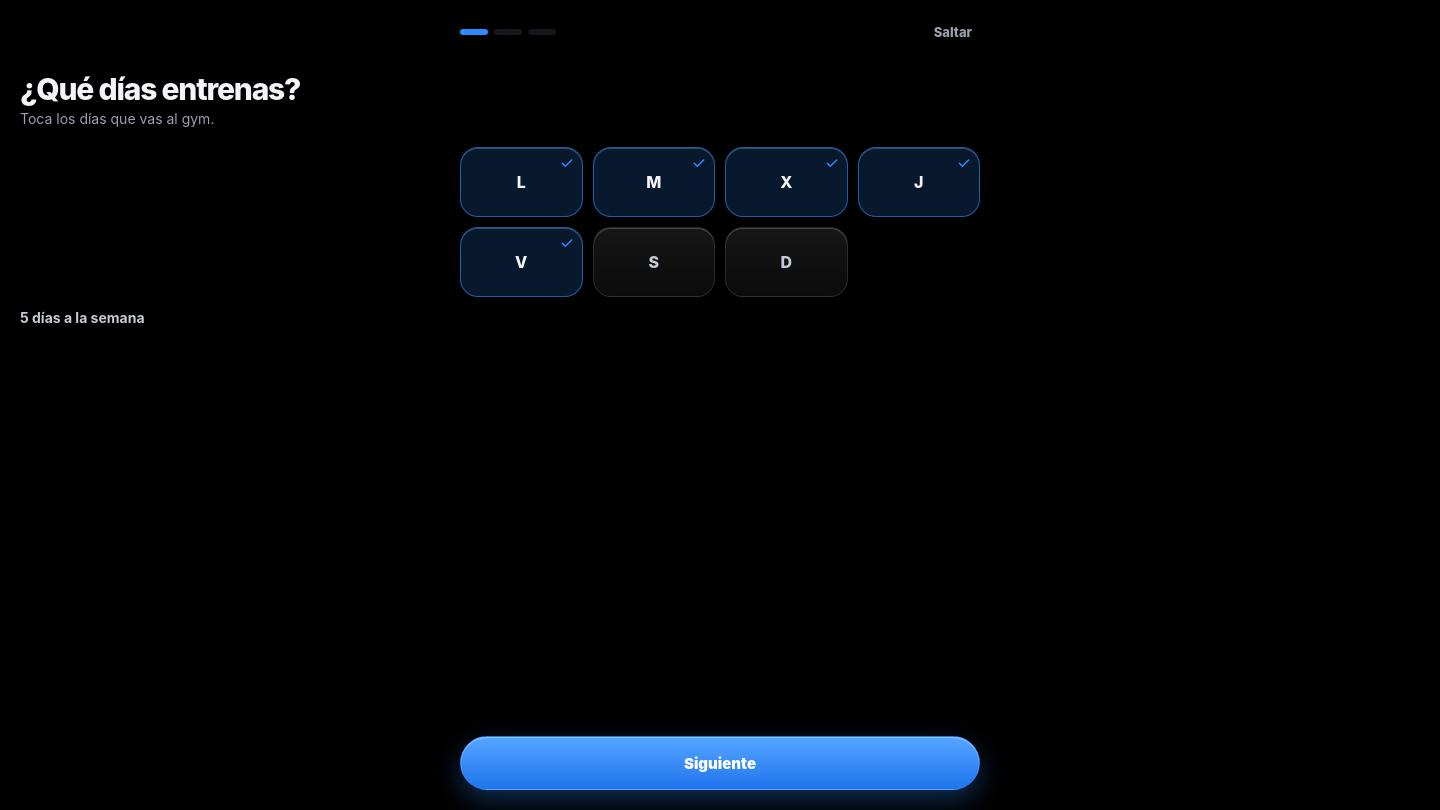
Test: Asistente de cuenta nueva · días de entreno › dice cuántos días hay elegidos, no solo con el color
Expected: the heading "¿Qué días entrenas?" is shown, [20,71,300,107]
Expected: the text "5 días a la semana" is shown, [20,309,144,326]
Click the button named "Lunes".
click(521, 182)  # box [460,147,582,217]
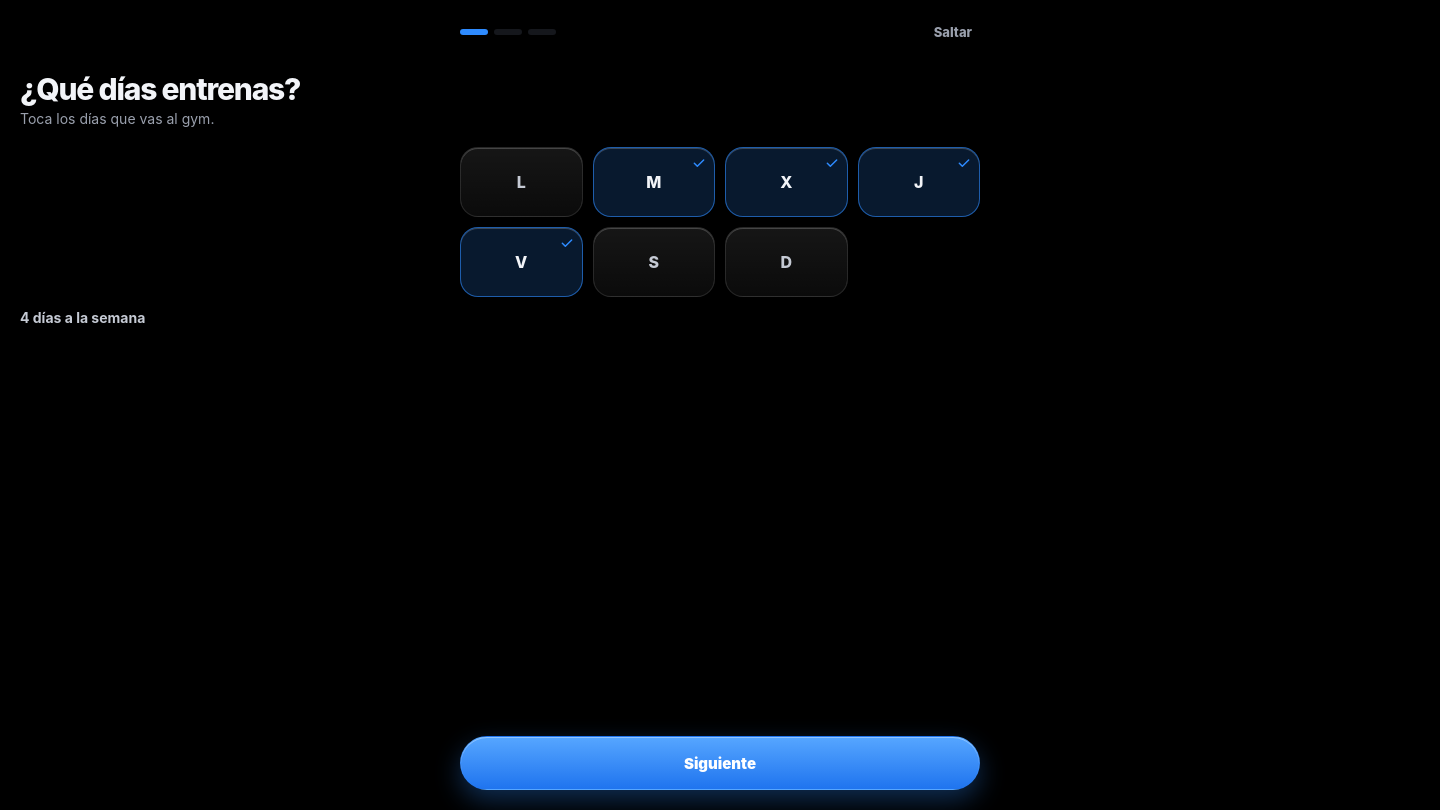
Result: the text "4 días a la semana" is shown at [20,309,145,326]
Click the button named "Lunes".
click(521, 182)  # box [460,147,582,217]
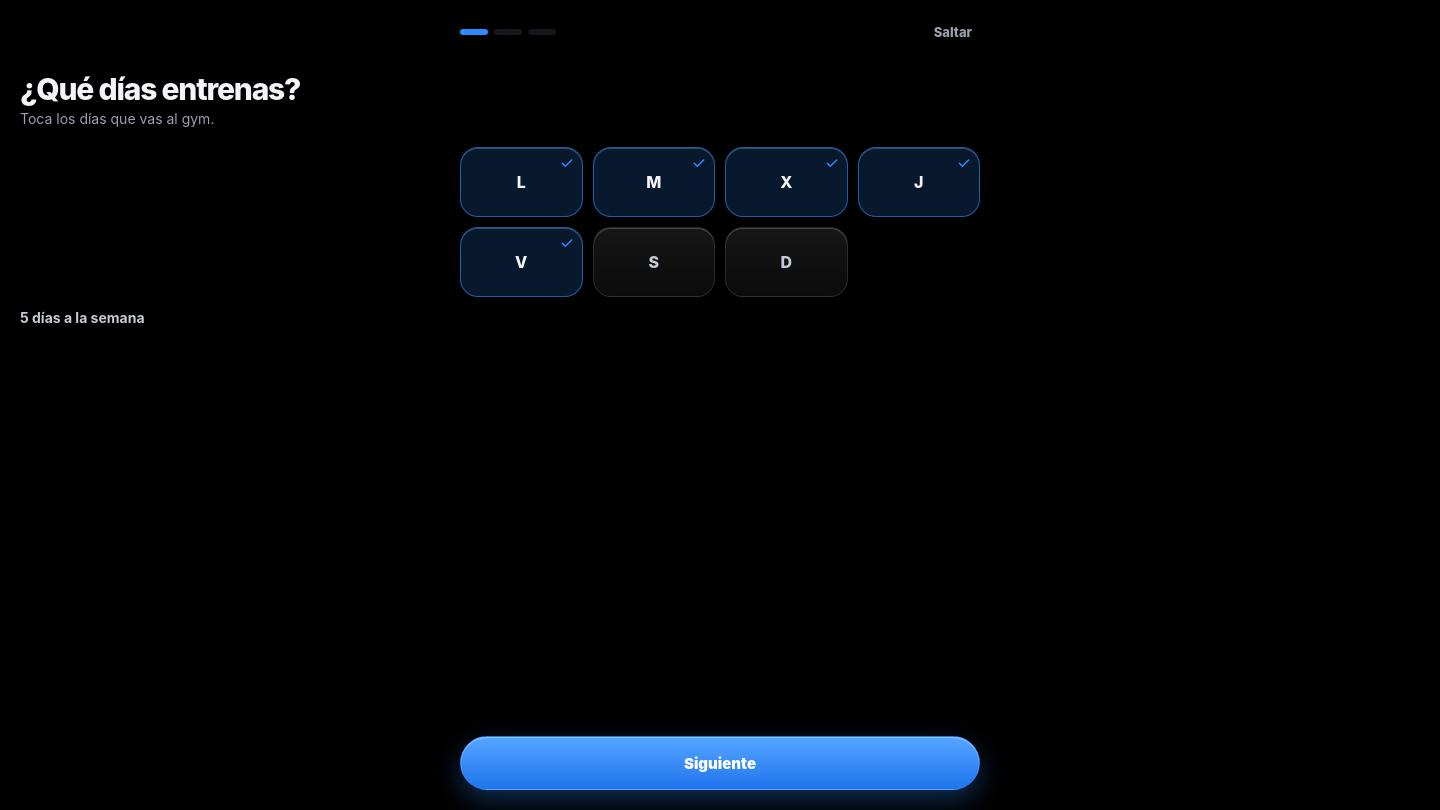
Click the button named "Martes".
click(654, 182)  # box [592,147,715,217]
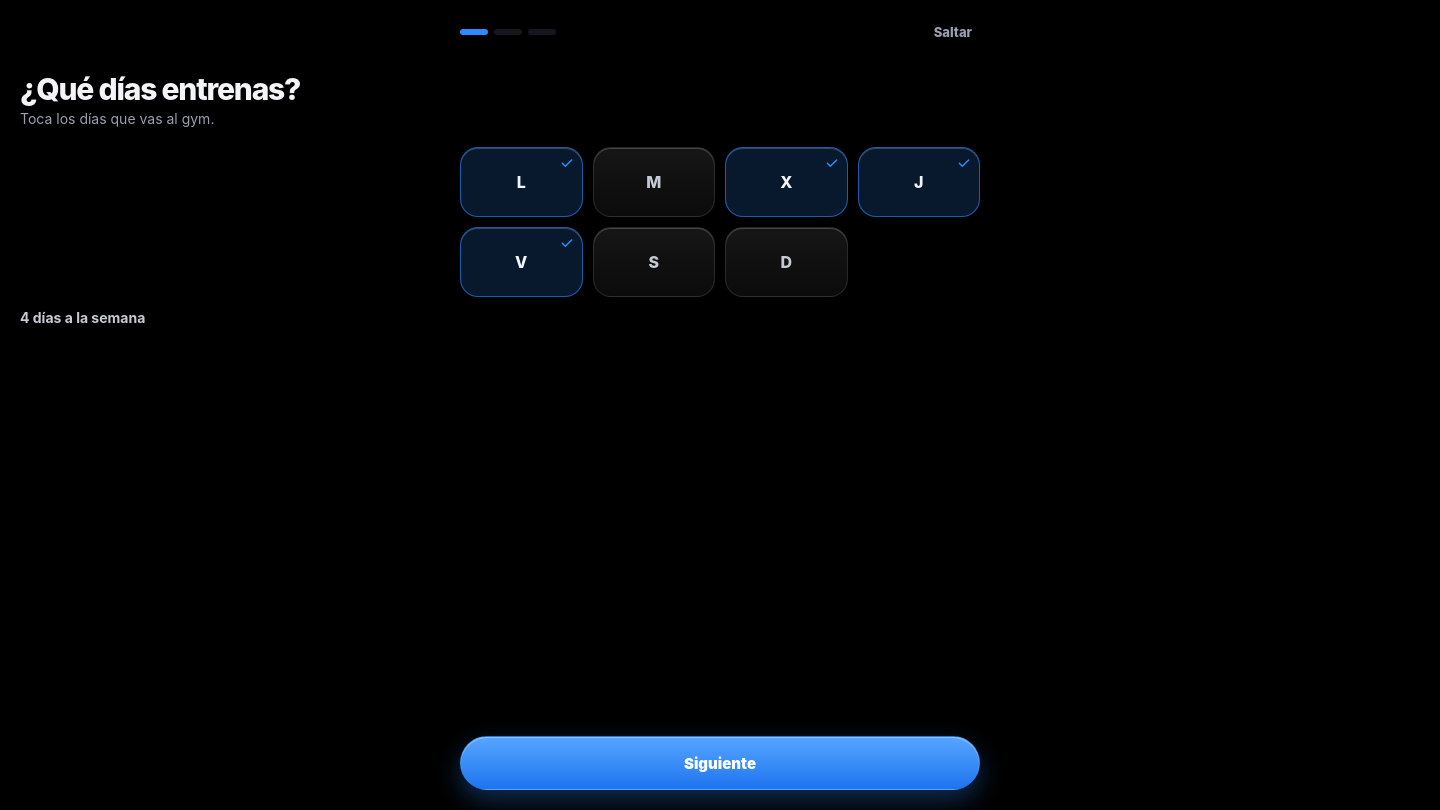
Click the button named "Miércoles".
click(786, 182)  # box [725,147,848,217]
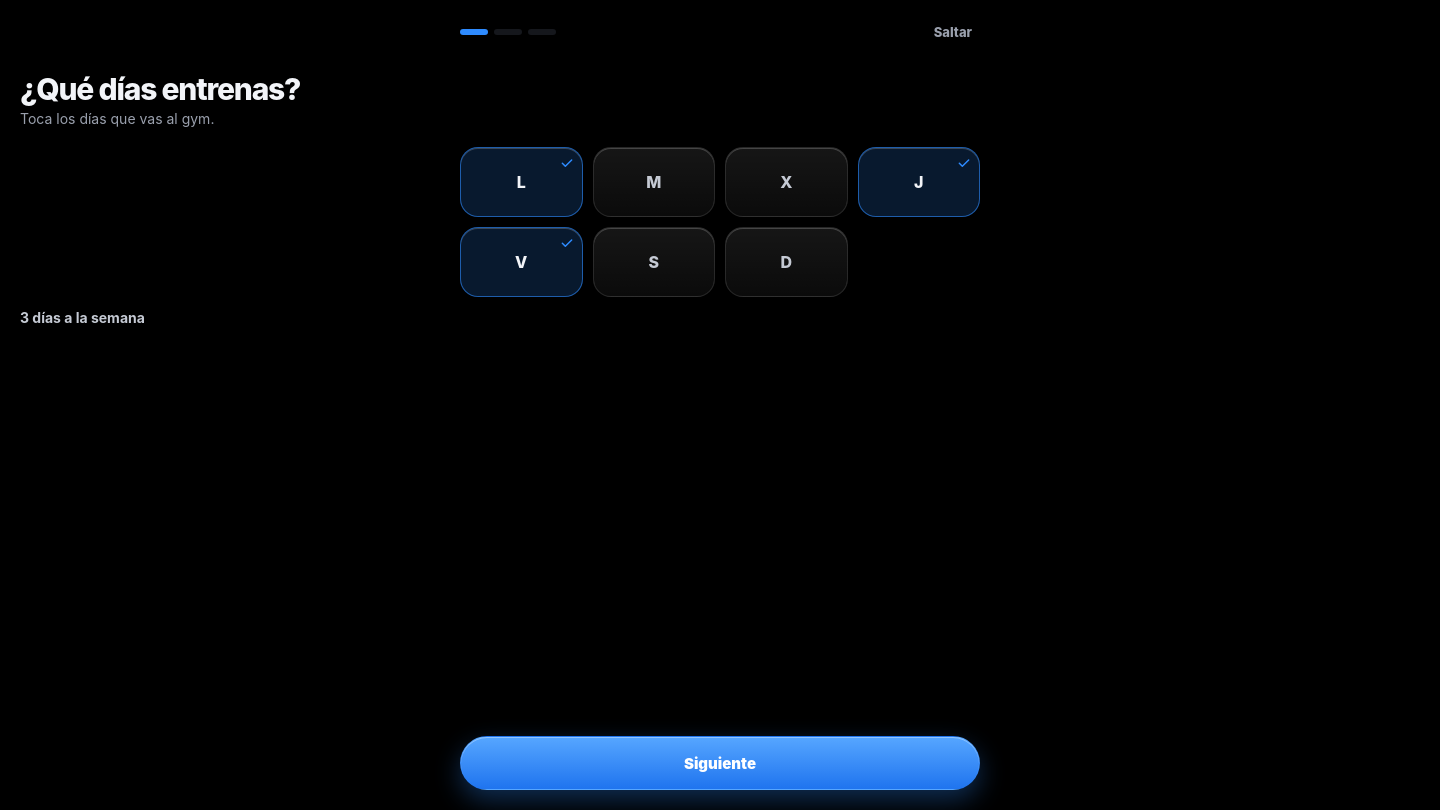
Click the button named "Jueves".
click(919, 182)  # box [858,147,980,217]
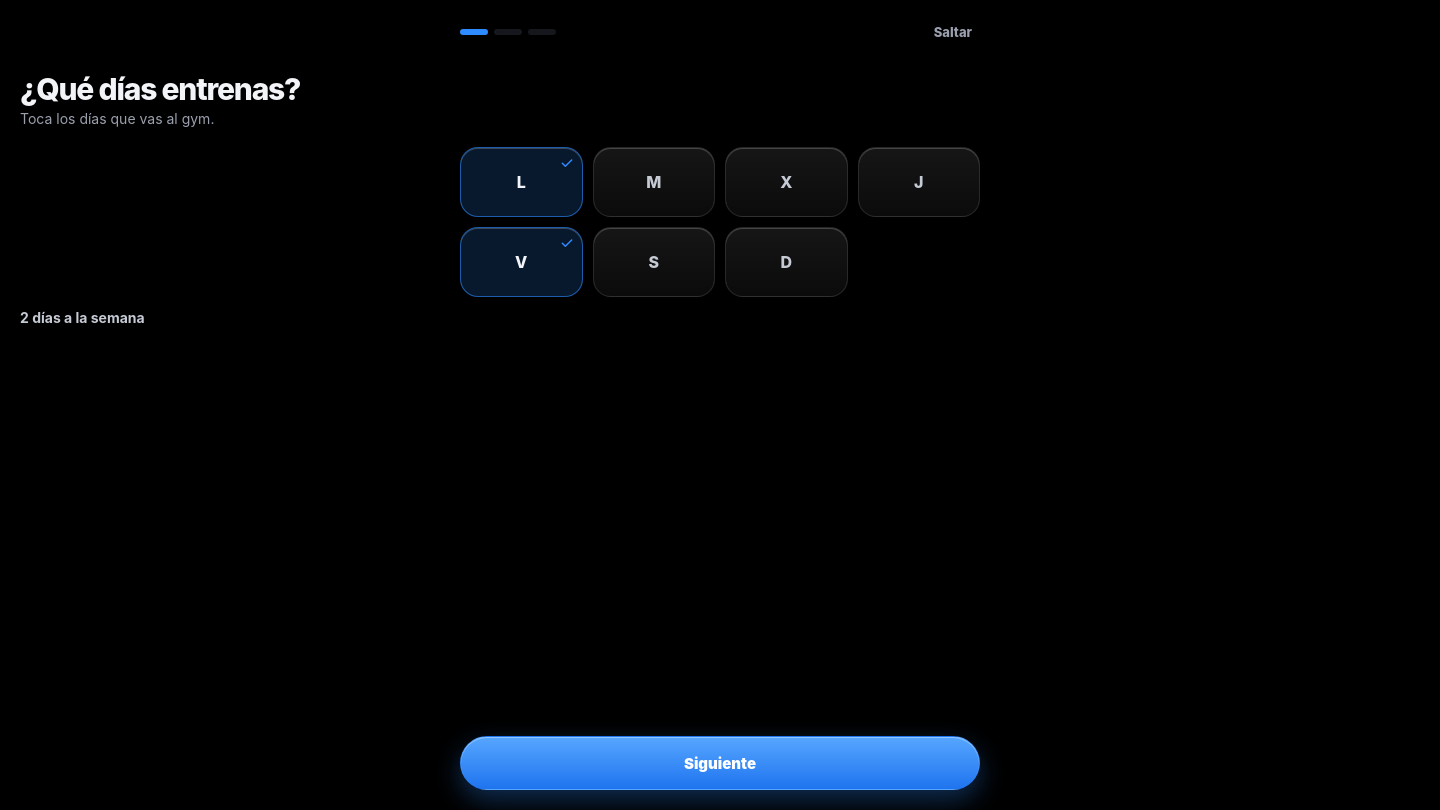
Click the button named "Viernes".
click(521, 262)  # box [460,227,582,297]
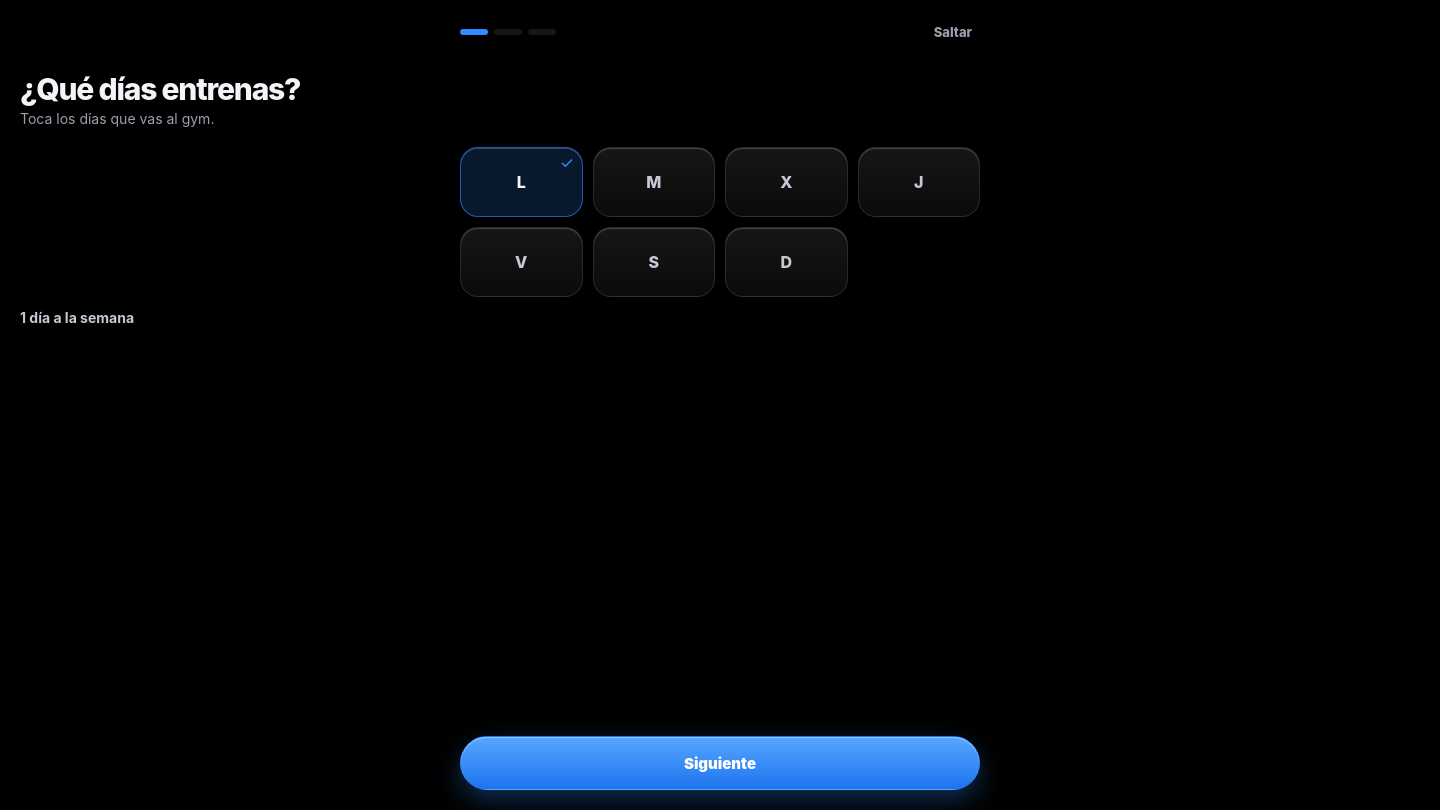
Result: the text "1 día a la semana" is shown at [20,309,134,326]
